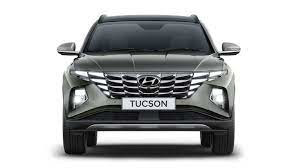car: (56, 13, 242, 156)
